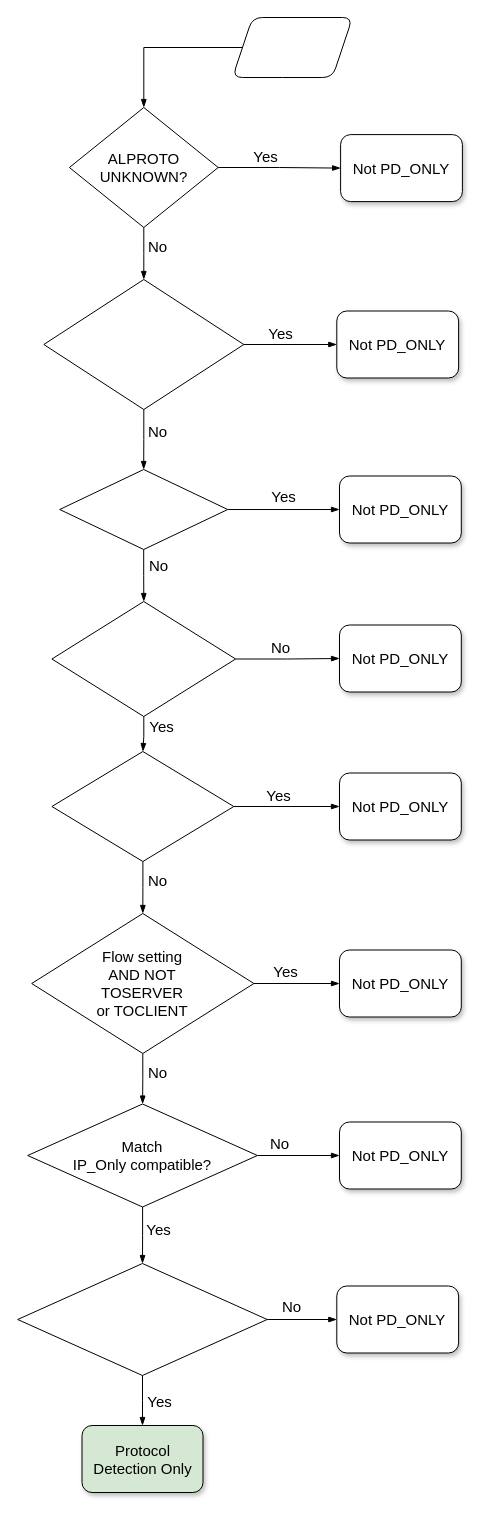
The diagram is 486 pixels wide and 1517 high, and some of its shapes have lost their labels. Here are the shapes that lost their labels. From the top down, the centre of each, then its label:
At point 292,47: "Signature".
At point 143,344: "Payload and/or Stream match list?".
At point 143,509: "Buffer inspection?".
At point 143,658: "non-payload per-packet matches?".
At point 142,806: "Flowbits AND NOT flowbits:set".
At point 142,1319: "Has keyword app-layer-protocol?".
